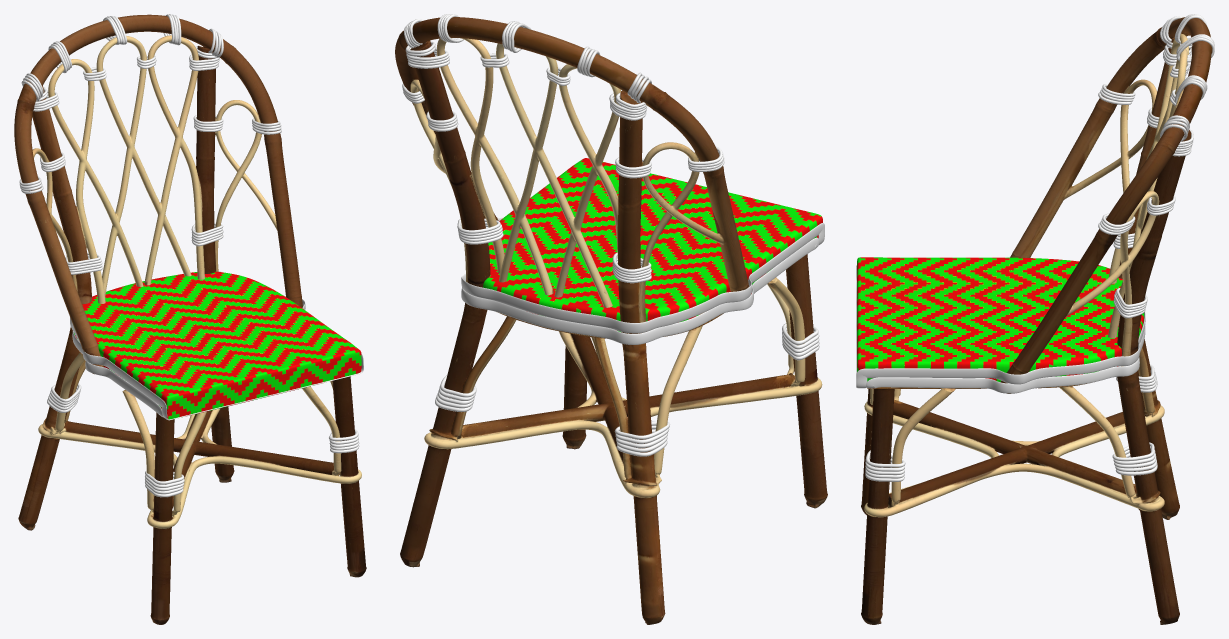
The model's file is resille-chevron.glb.
3 views of the same model, side by side, from view 1: azimuth 30°, elevation 25°; view 2: azimuth 150°, elevation 25°; view 3: azimuth 270°, elevation 25° (orthographic). The views are drawn at different scales.
Visible parts, largest first — view 1: mesh_structure, mesh_tressage, mesh_laniere; view 2: mesh_structure, mesh_tressage, mesh_laniere; view 3: mesh_structure, mesh_tressage, mesh_laniere.
Part boxes in pixels (left/top/right/bottom): mesh_structure: left=14, top=14, right=366, bottom=624; mesh_tressage: left=74, top=271, right=361, bottom=419; mesh_laniere: left=19, top=14, right=363, bottom=497; mesh_structure: left=395, top=17, right=827, bottom=624; mesh_tressage: left=483, top=158, right=822, bottom=331; mesh_laniere: left=402, top=14, right=824, bottom=456; mesh_structure: left=861, top=17, right=1212, bottom=624; mesh_tressage: left=857, top=257, right=1144, bottom=381; mesh_laniere: left=856, top=14, right=1214, bottom=481.
Bounding box in the file's own units: 0.5127 × 0.9055 × 0.5496.
3 materials, 2 textured.
